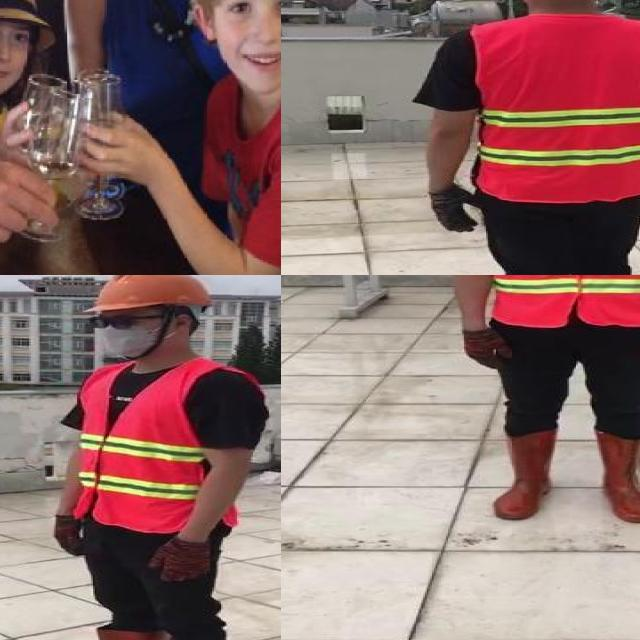boots: (496, 432, 556, 519), (592, 429, 640, 525)
face_mask: (84, 309, 168, 364)
face_nomask: (207, 0, 281, 80), (0, 8, 32, 85)
glasses: (86, 311, 148, 333)
hand_glove: (148, 538, 212, 582), (422, 188, 479, 231), (459, 327, 512, 369), (50, 514, 84, 557)
hand_noglove: (0, 146, 67, 255), (73, 112, 151, 190)
head_helmet: (93, 275, 216, 316), (0, 0, 59, 46)
person: (33, 275, 273, 640), (409, 0, 640, 275), (430, 275, 640, 537)
vest: (472, 18, 640, 201), (70, 364, 246, 533), (473, 275, 640, 325)
